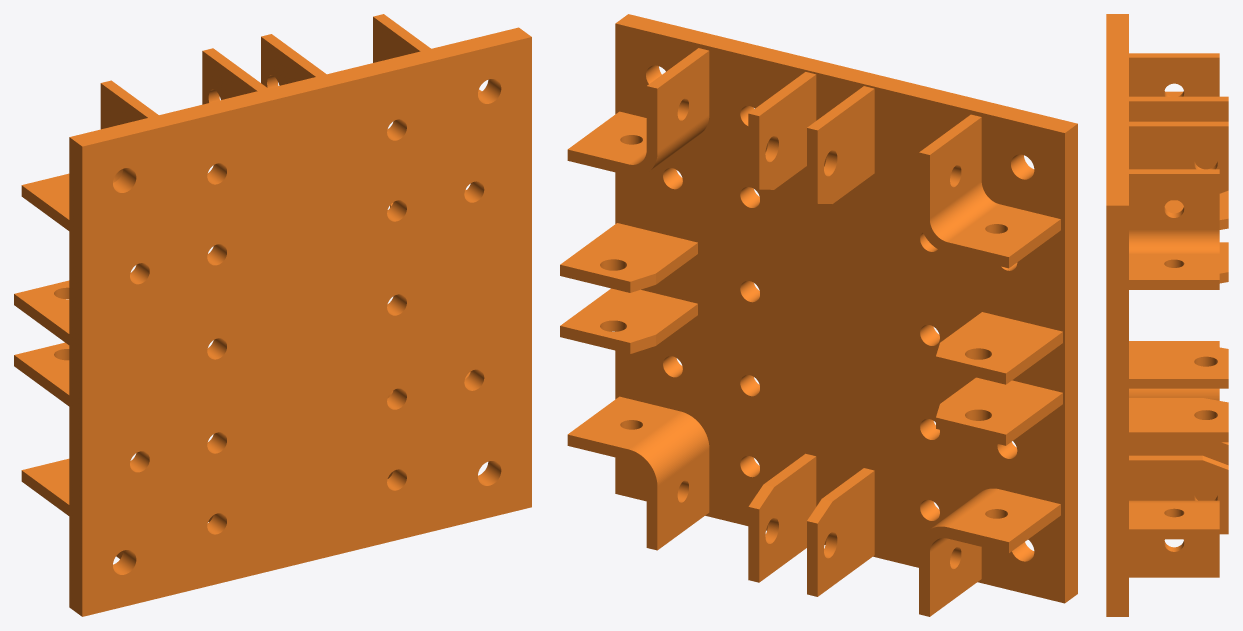
3 renders of one model, left to right at view 1: azimuth 30°, elevation 25°; view 2: azimuth 150°, elevation 25°; view 3: azimuth 270°, elevation 25°, orthographic. The views are drawn at different scales.
Visible parts, largest first — view 1: Node1; view 2: Node1; view 3: Node1.
Boxes of the visible parts, bbox=[...] form: Node1: bbox=[14, 14, 531, 616]; Node1: bbox=[560, 14, 1077, 616]; Node1: bbox=[1106, 14, 1228, 616].
Size of the model in its own units: 500 by 500 by 135.
